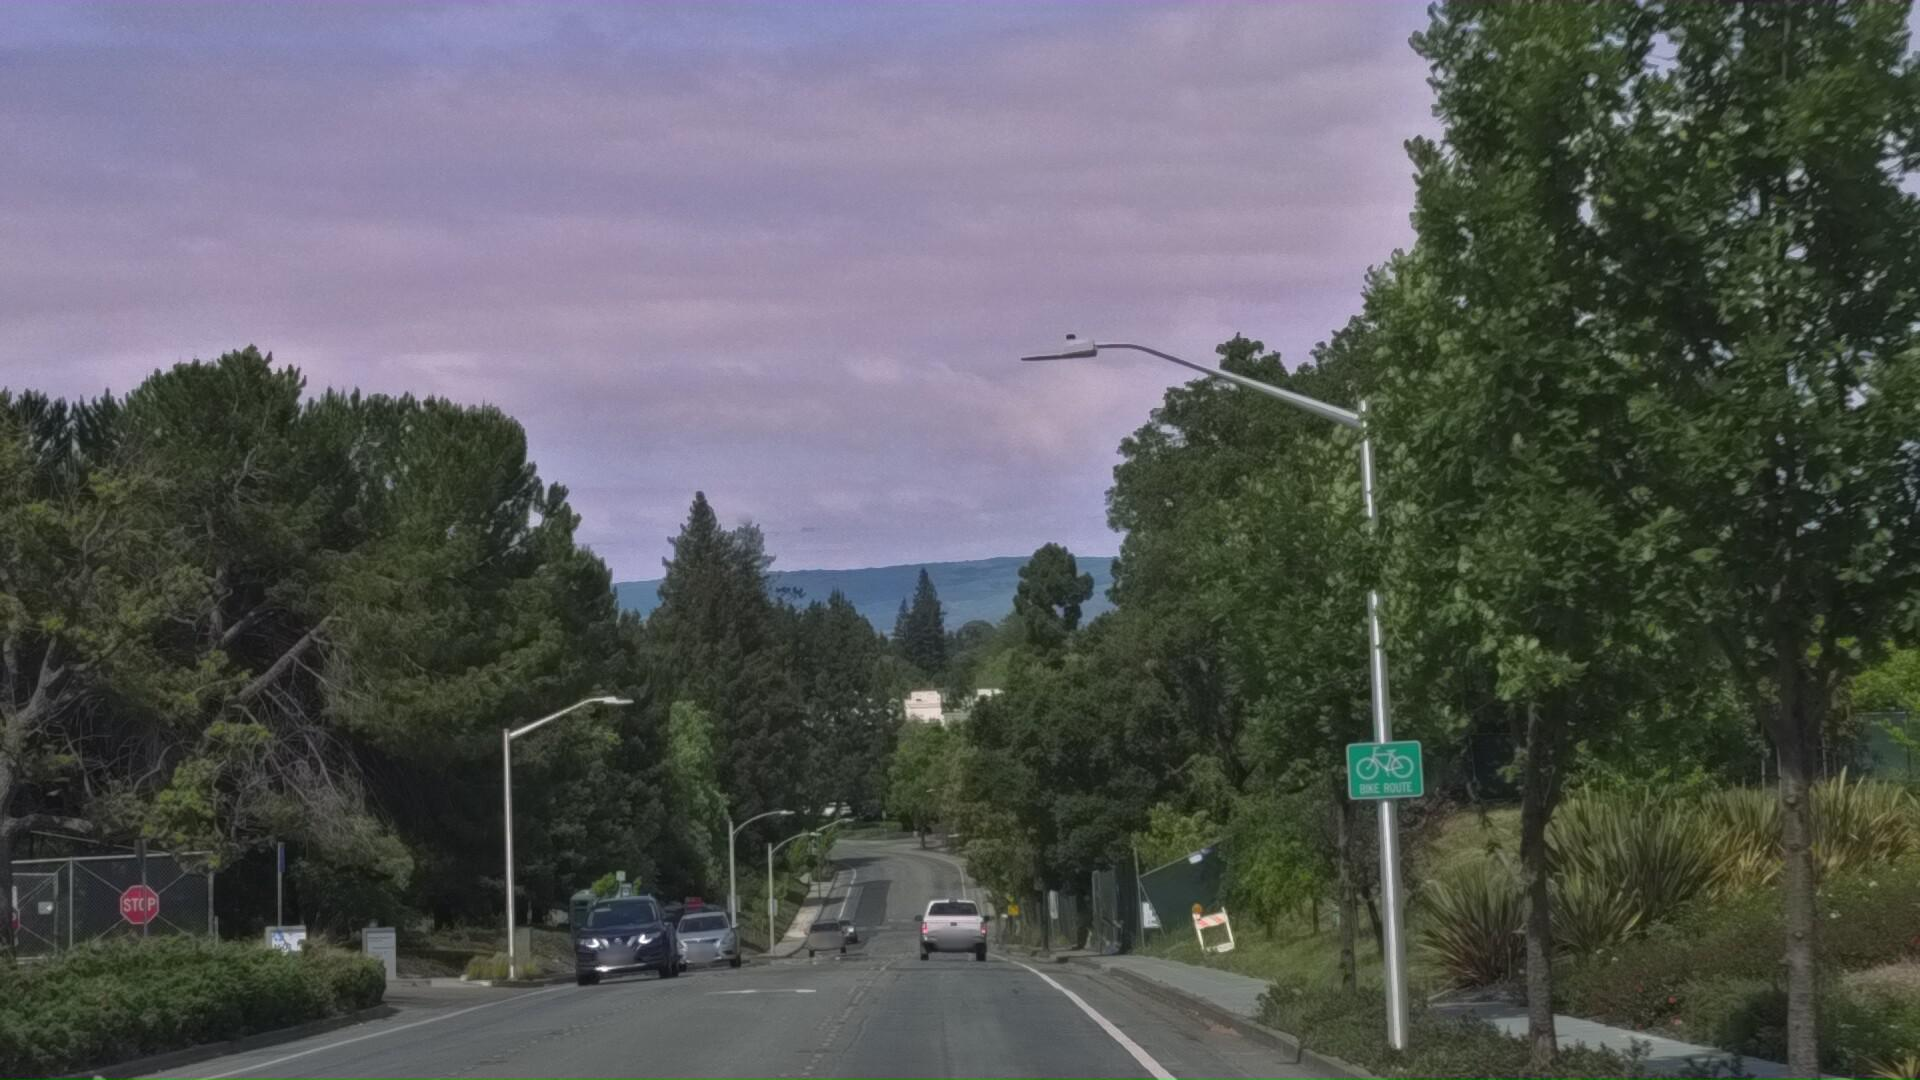car: (560, 996, 688, 1080)
